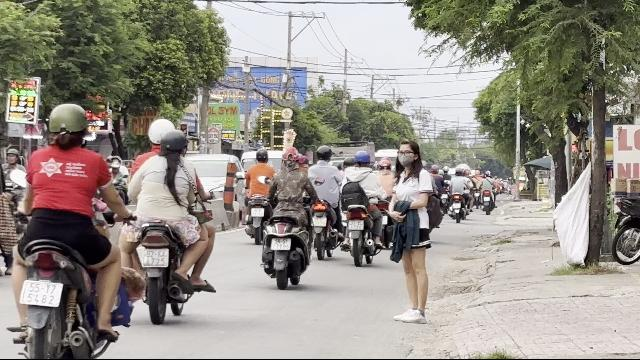helmet: (45, 102, 89, 150), (147, 118, 175, 146), (280, 146, 300, 170), (314, 145, 332, 163), (353, 150, 371, 166), (255, 148, 269, 164)
licenseplate: (21, 280, 64, 306), (141, 249, 169, 267), (271, 238, 291, 251), (348, 220, 364, 230), (250, 208, 264, 216), (312, 218, 326, 226)
motorcyclist: (1, 100, 140, 356), (119, 112, 218, 323), (259, 145, 311, 287), (340, 148, 386, 266), (304, 144, 344, 258), (241, 148, 277, 244)
nohelmet: (160, 130, 188, 160)
